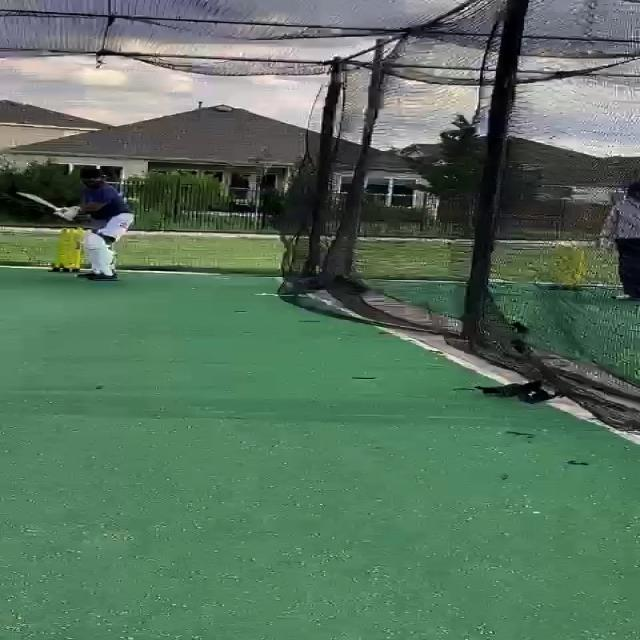batsman: (14, 167, 139, 282)
